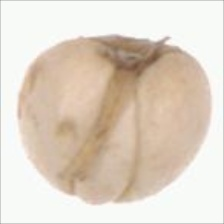L5: (60, 68, 145, 206), (80, 32, 184, 73)
L6: (15, 32, 215, 208)
